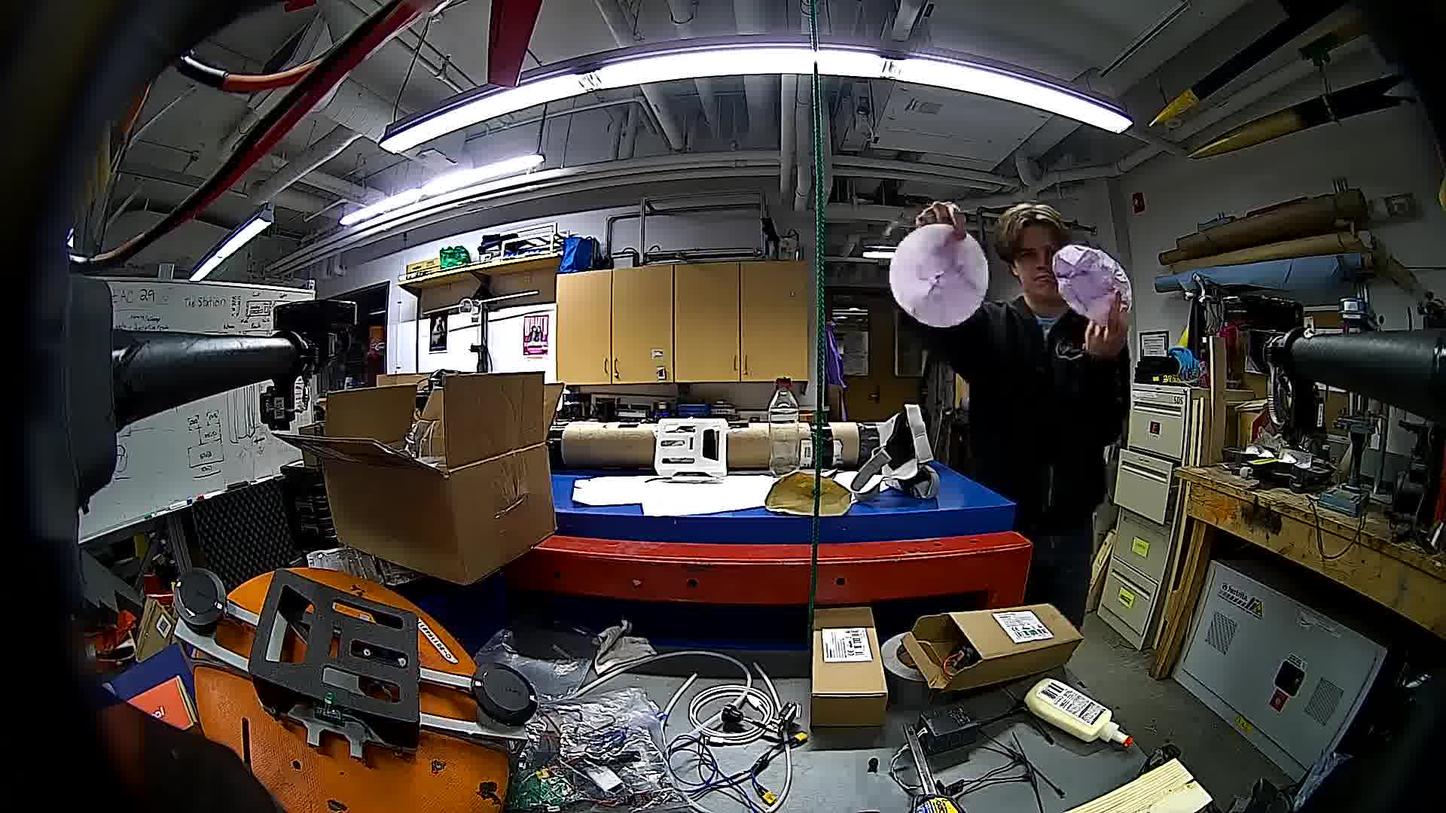Target: (884, 216, 997, 332)
